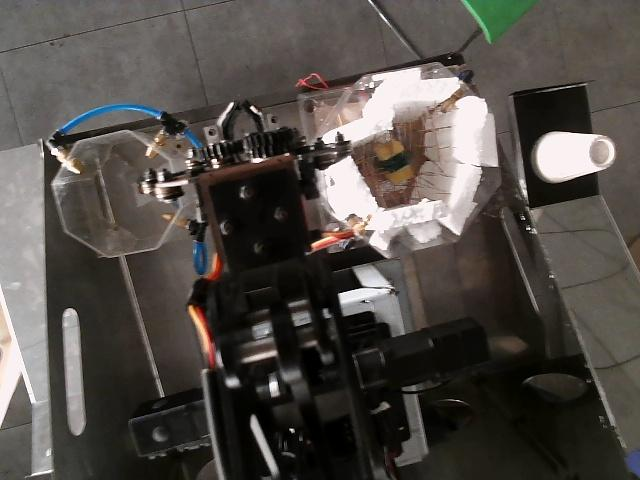cup: (532, 131, 615, 182)
